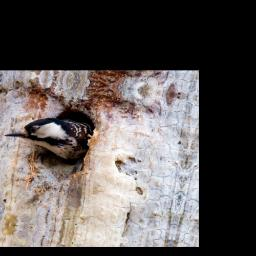Woodpecker: (2, 108, 94, 164)
